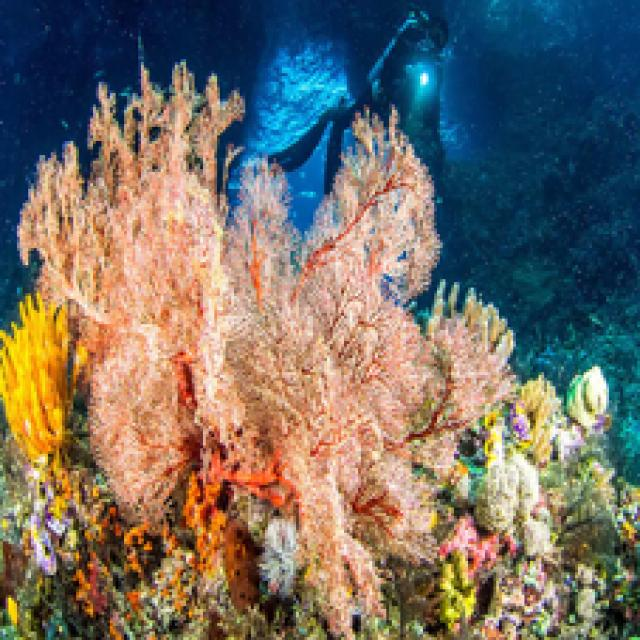Healthy: (21, 66, 511, 635), (356, 368, 638, 638), (4, 461, 322, 638), (52, 477, 266, 635), (1, 294, 66, 458), (421, 283, 511, 359)
